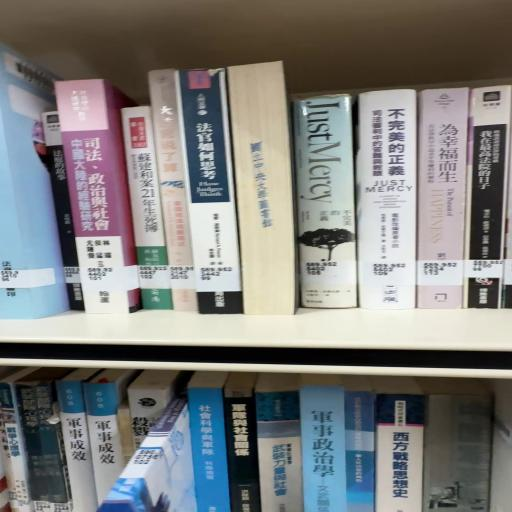backward: (224, 58, 294, 314)
book: (56, 83, 141, 318), (0, 45, 69, 325), (179, 66, 246, 312), (294, 98, 360, 314), (352, 86, 415, 308), (417, 84, 470, 307), (121, 100, 171, 314)
